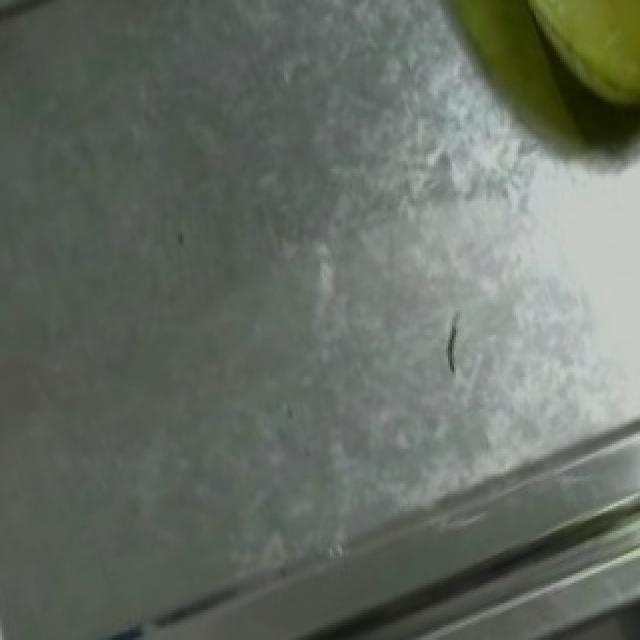fruit: (460, 0, 640, 146)
